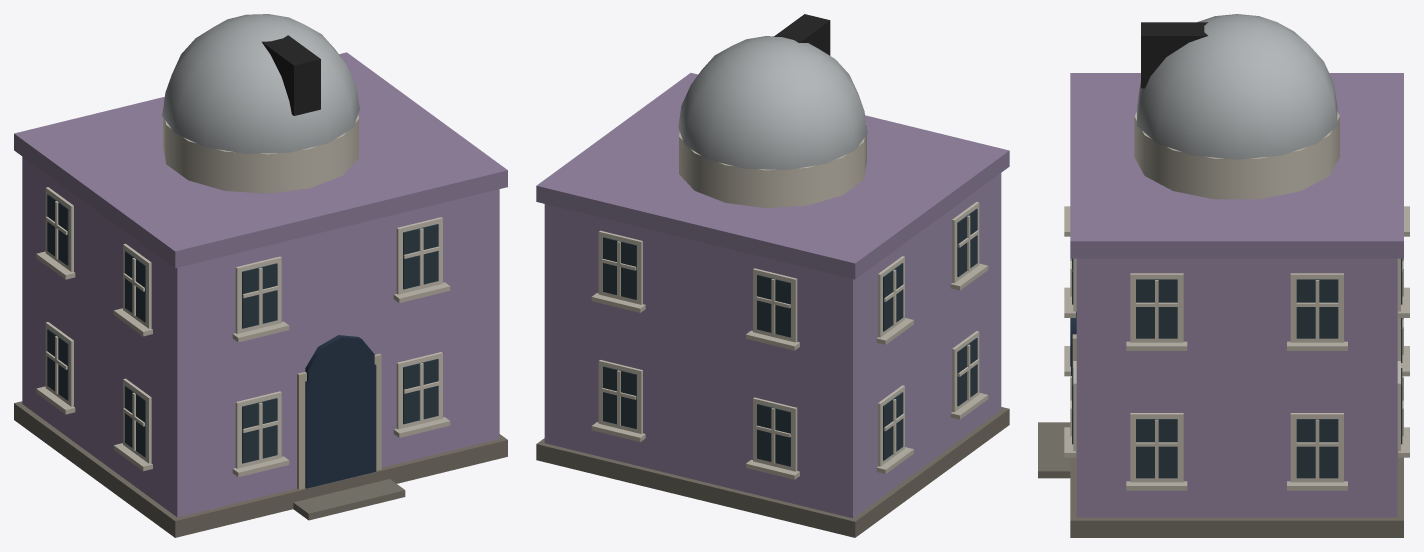
File: procedural_observatory@4.glb
The picture shows the model from 3 angles, left to right: view 1: azimuth 30°, elevation 25°; view 2: azimuth 150°, elevation 25°; view 3: azimuth 270°, elevation 25°; orthographic projection. The views are drawn at different scales.
Parts seen in each view (by area): view 1: part_0; view 2: part_0; view 3: part_0.
Boxes of the visible parts, x1,y1,x2,y2 form: part_0: (14, 14, 507, 537); part_0: (536, 14, 1009, 537); part_0: (1038, 14, 1409, 537).
Size of the model in its own units: 6.38 by 7.4 by 5.79.
